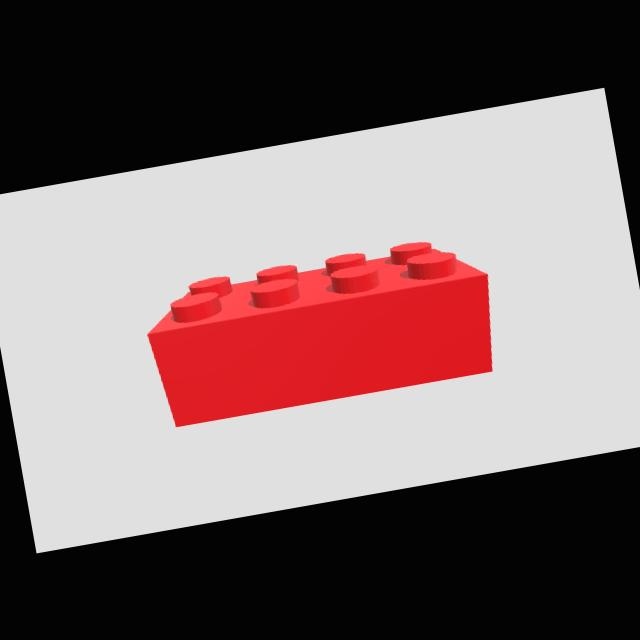2x4: (147, 242, 492, 426)
